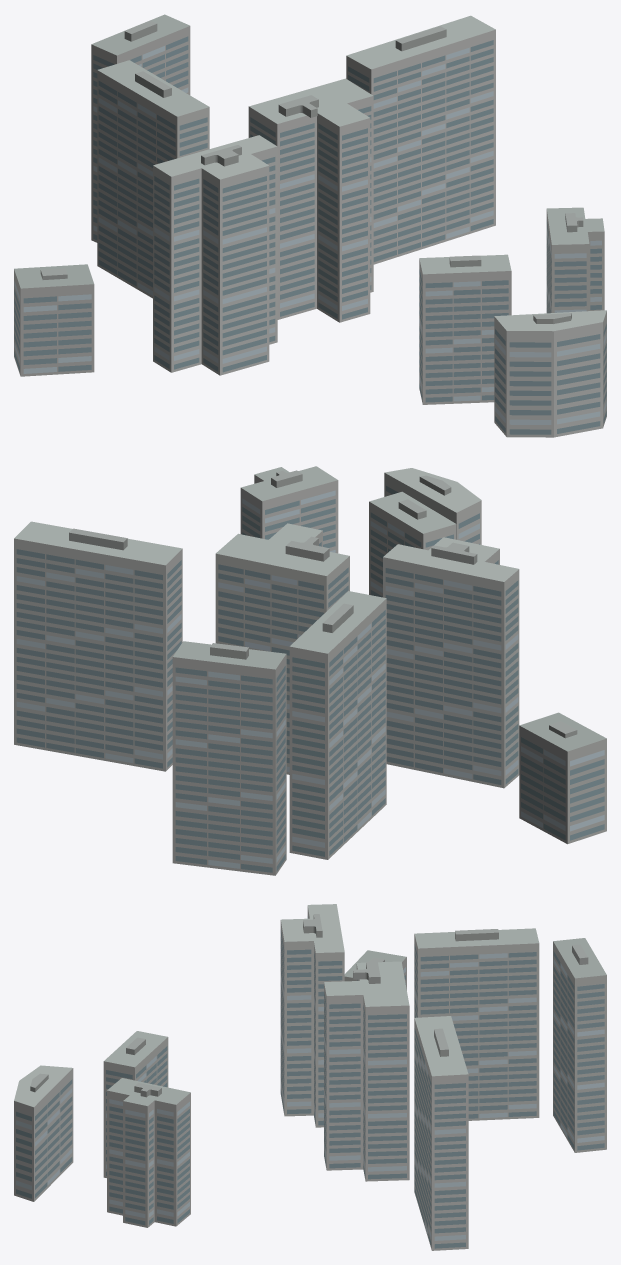
The model's file is apt-a12114001.glb.
3 views of the same model, one above another, from view 1: azimuth 30°, elevation 25°; view 2: azimuth 150°, elevation 25°; view 3: azimuth 270°, elevation 25° (orthographic). The views are drawn at different scales.
Parts seen in each view (by area): view 1: apt-a12114001; view 2: apt-a12114001; view 3: apt-a12114001.
Boxes of the visible parts, bbox=[...] form: apt-a12114001: bbox=[14, 14, 606, 437]; apt-a12114001: bbox=[14, 466, 606, 875]; apt-a12114001: bbox=[14, 904, 606, 1250].
Size of the model in its own units: 168 by 64 by 190.
